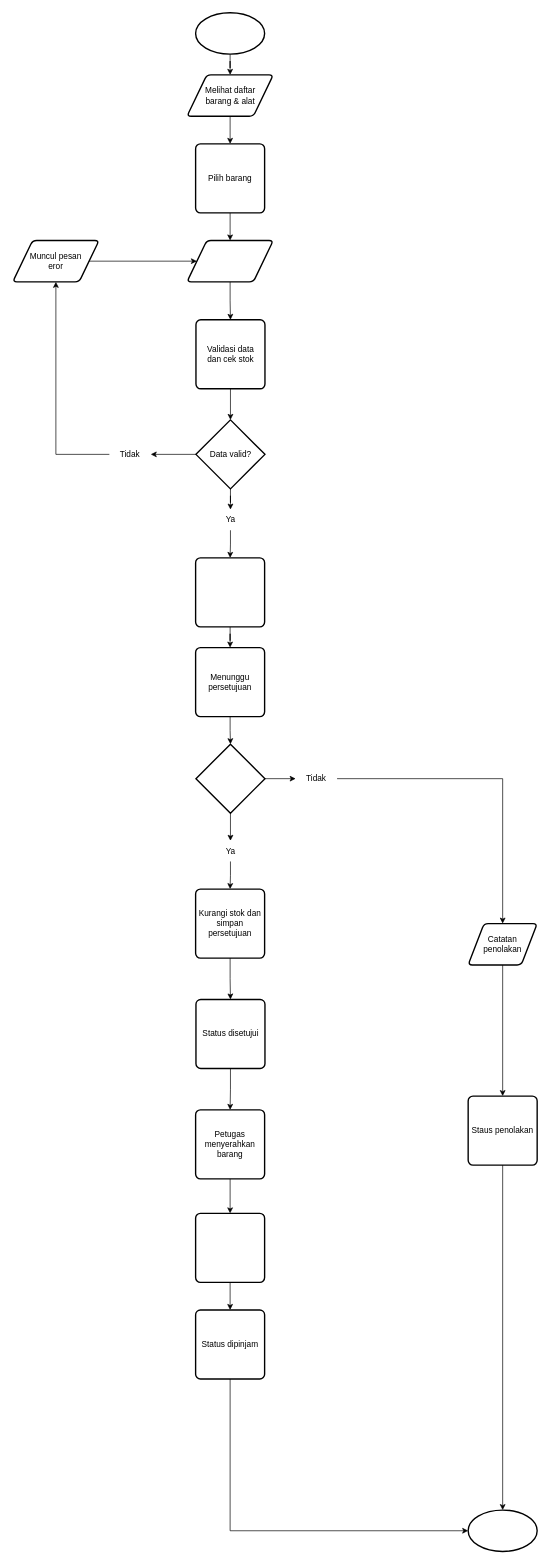
This 549x1564 diagram has some shape labels left out. The centre of each missing label's shape, as x and y in pixels:
Disetujui?: point (230, 778)
END: point (502, 1530)
Isi formulir: point (230, 260)
Peminjam menerima barang: point (230, 1247)
Simpan pengajuan: point (230, 592)
START: point (230, 33)
